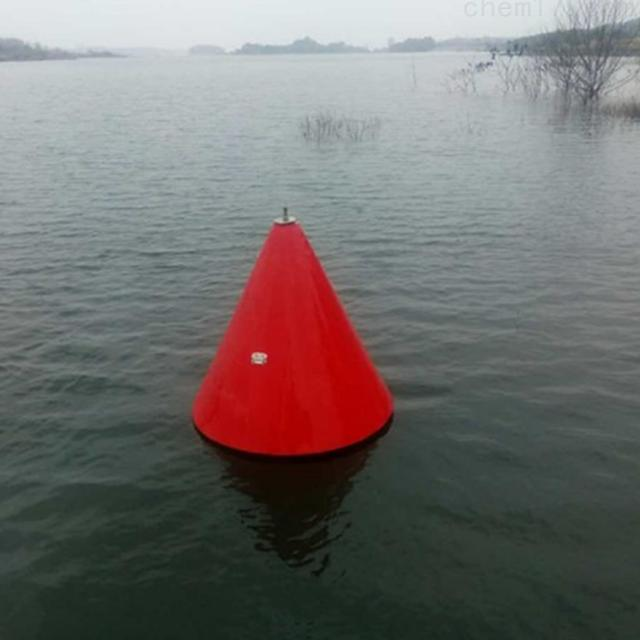buoy: (186, 201, 392, 456)
